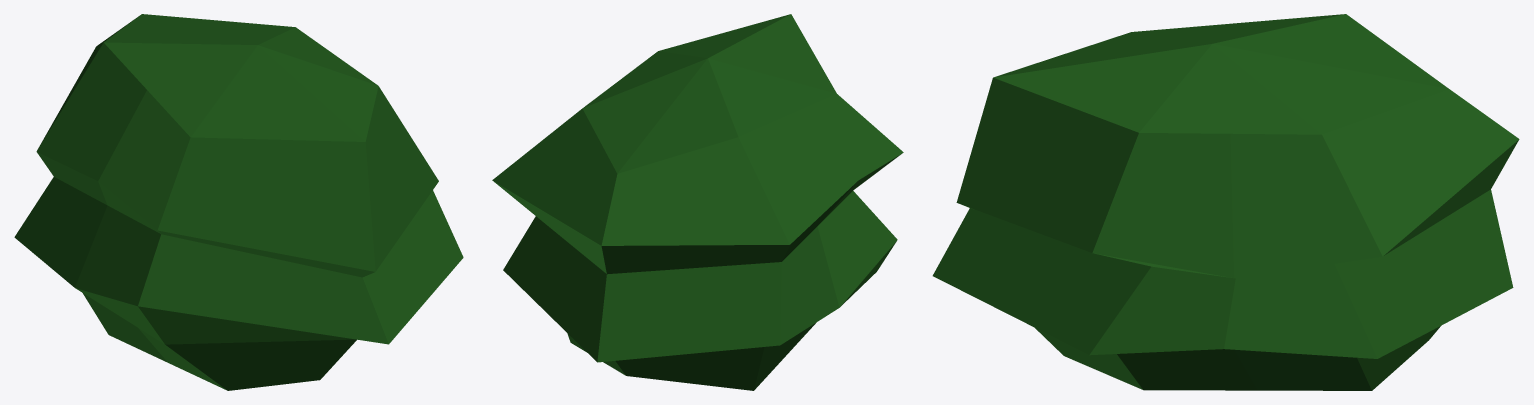
The model's file is bush5.glb.
The picture shows the model from 3 angles, left to right: view 1: azimuth 30°, elevation 25°; view 2: azimuth 150°, elevation 25°; view 3: azimuth 270°, elevation 25°; orthographic projection. The views are drawn at different scales.
Visible parts, largest first — view 1: bush3; view 2: bush3; view 3: bush3.
Boxes of the visible parts, x1,y1,x2,y2 form: bush3: (14,14,463,390); bush3: (492,14,903,390); bush3: (932,14,1519,390).
Bounding box in the file's own units: 1.03 × 0.9277 × 1.48.
